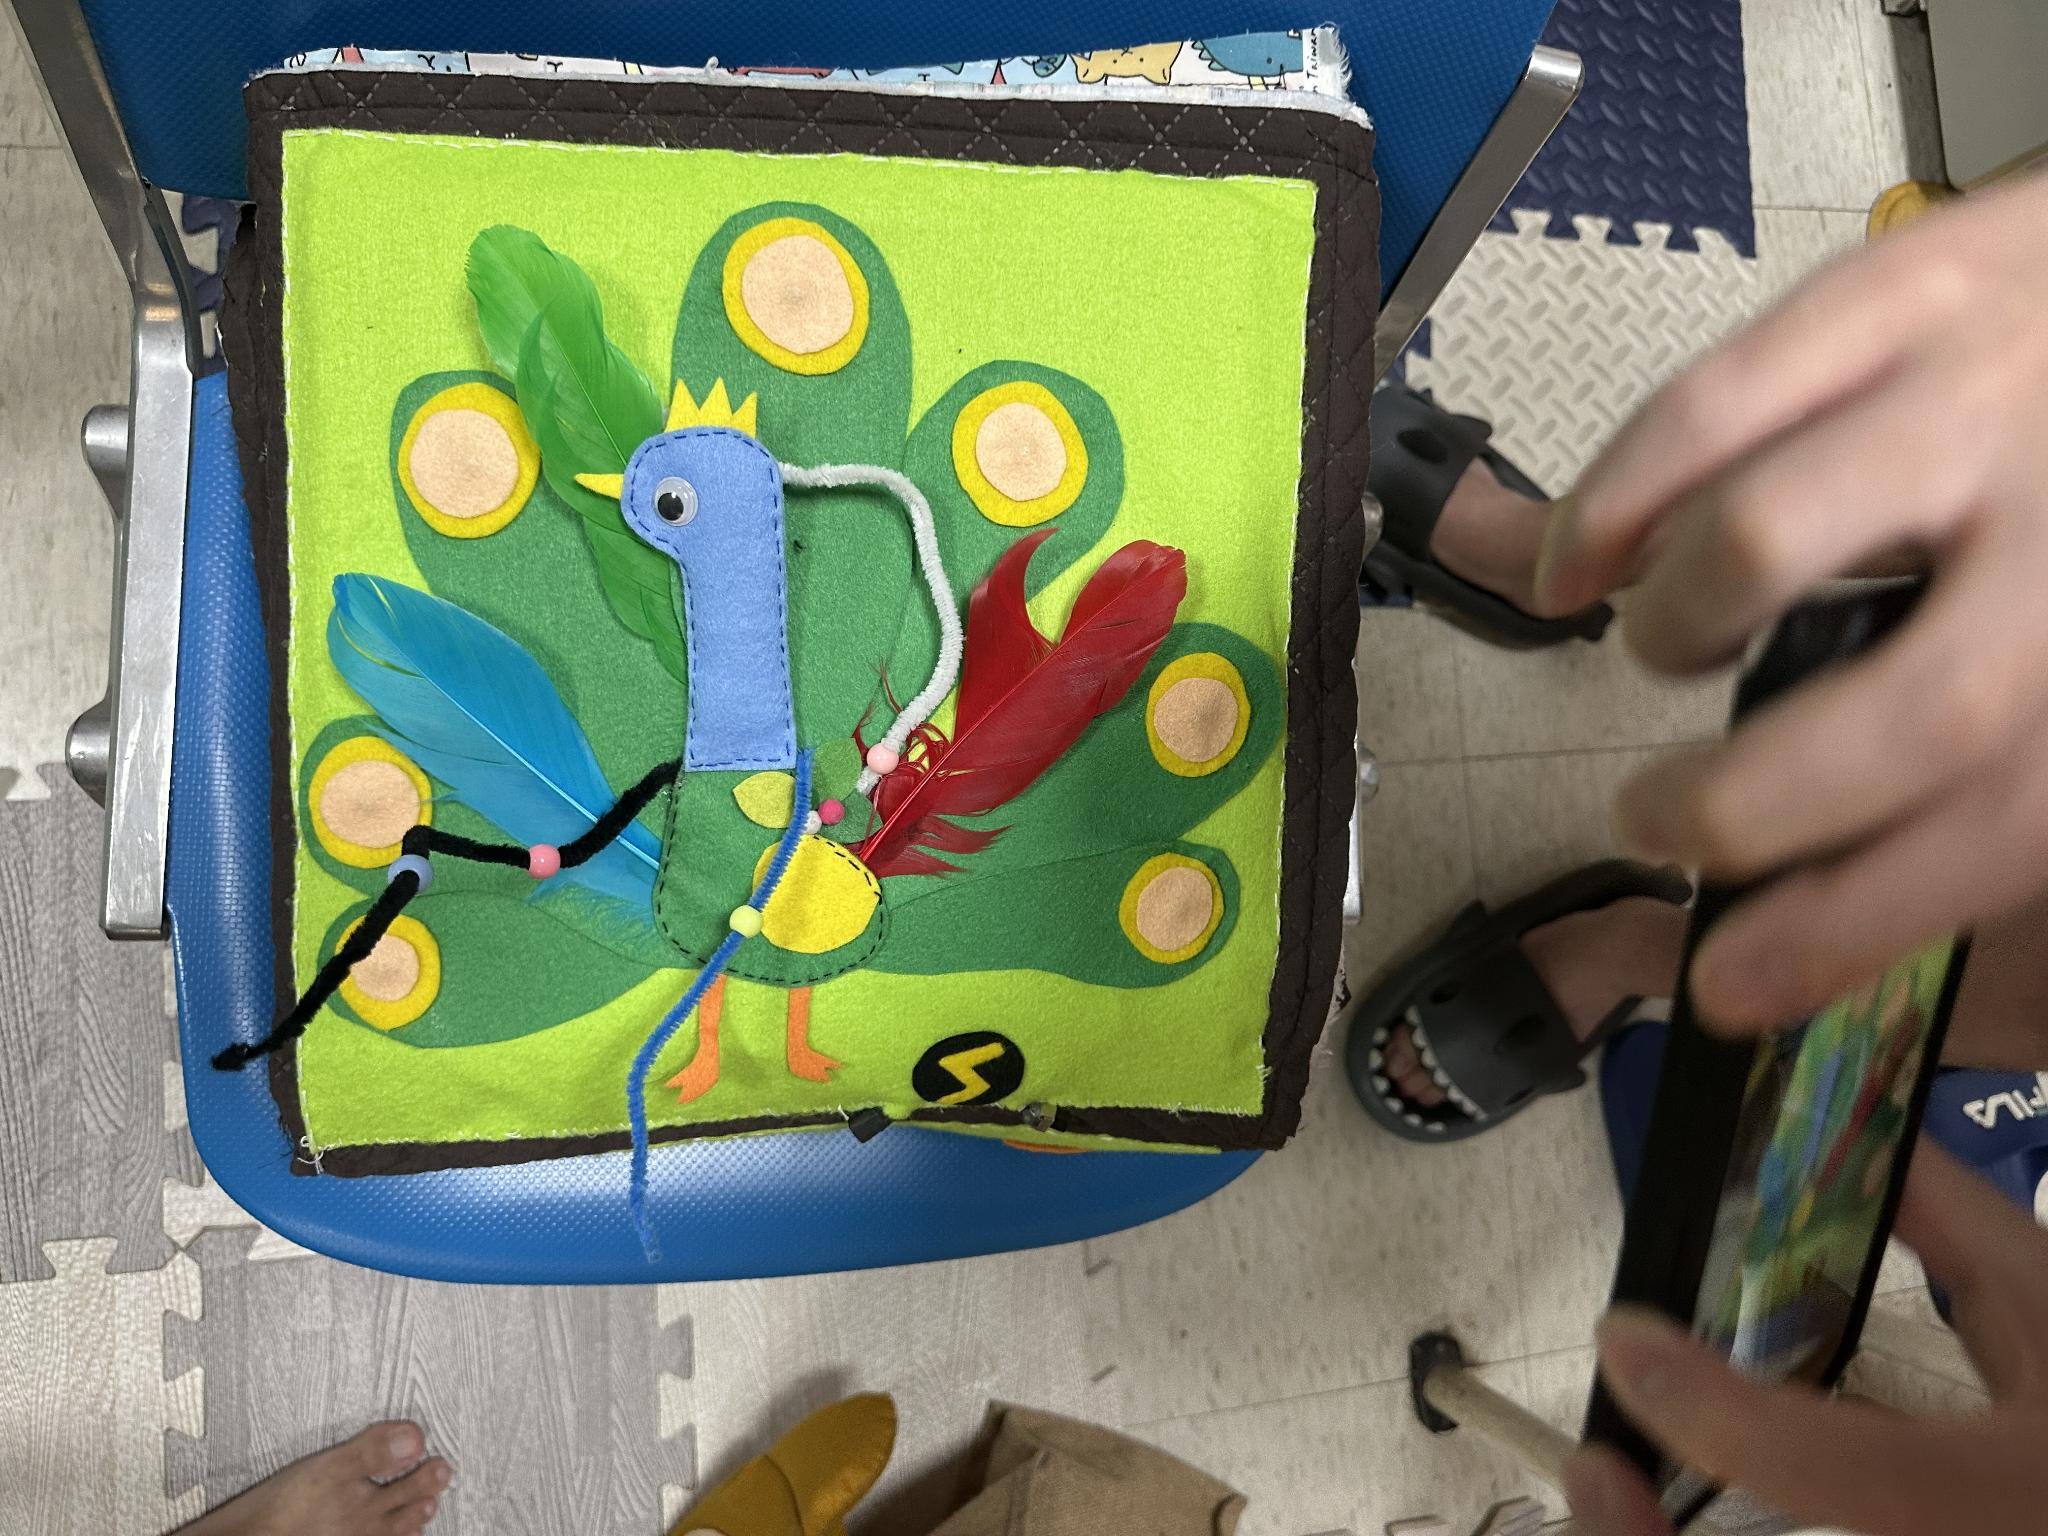bead: (711, 876, 782, 952), (387, 841, 435, 905), (524, 831, 576, 881), (869, 739, 898, 776)
